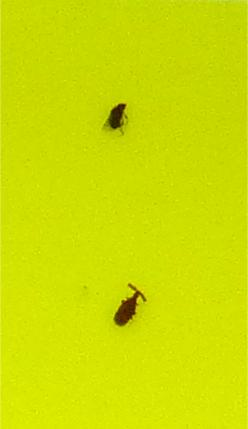Brachycera: (100, 100, 130, 136)
Coleoptera: (110, 281, 148, 329)
